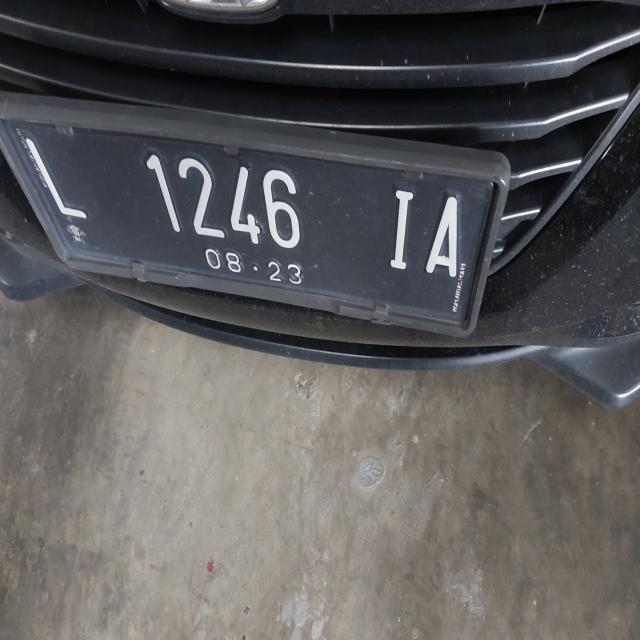1: (142, 142, 186, 258)
2: (174, 130, 232, 260)
4: (224, 140, 264, 254)
6: (260, 133, 310, 264)
A: (426, 155, 468, 307)
I: (382, 138, 426, 310)
L: (21, 115, 103, 260)
